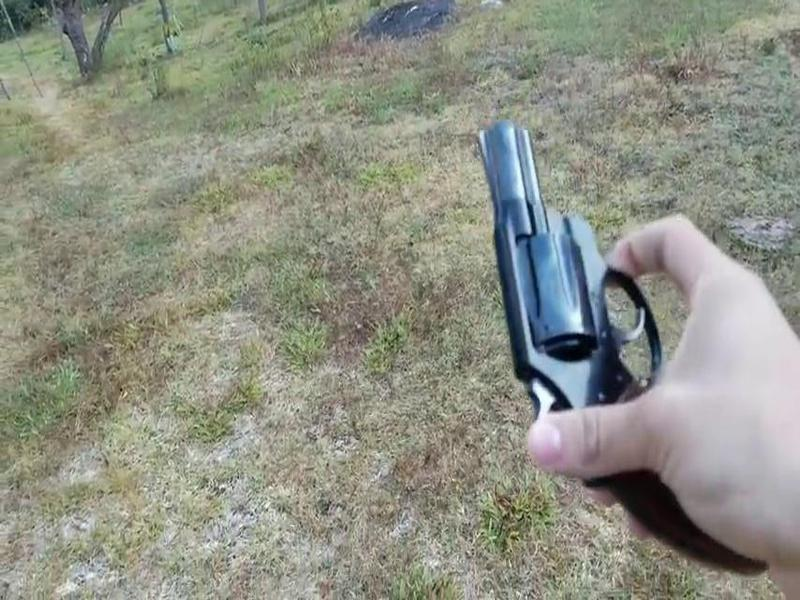Revolver: (466, 113, 677, 510)
